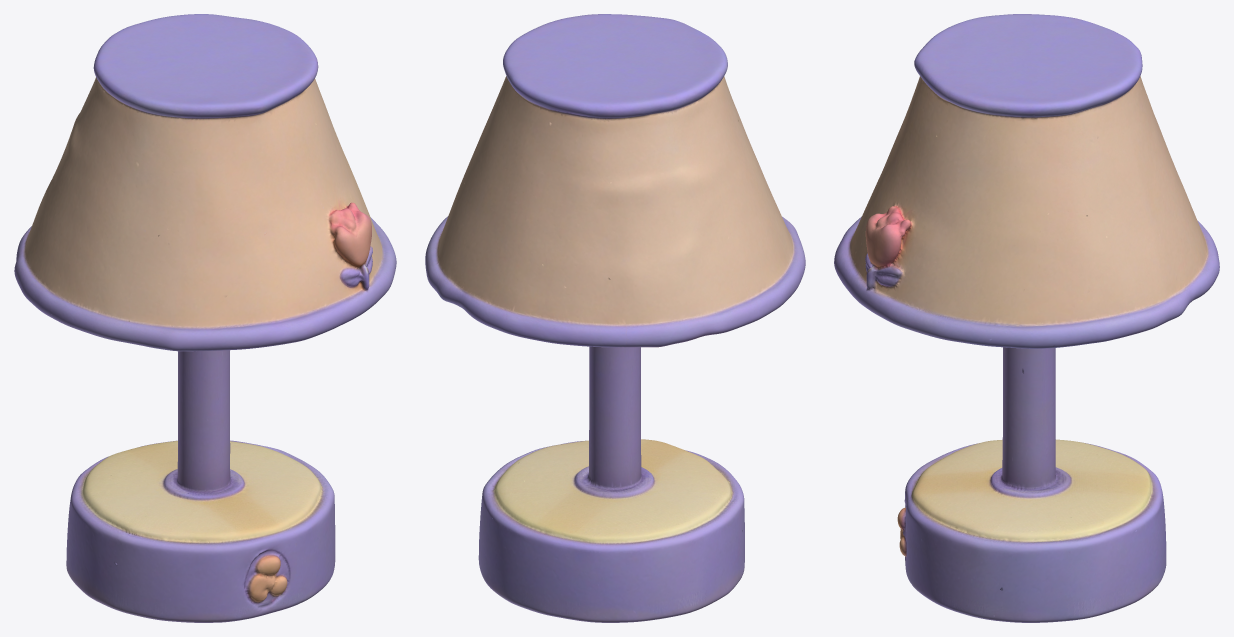
File: tea-table-lamp.glb
The picture shows the model from 3 angles, left to right: view 1: azimuth 30°, elevation 25°; view 2: azimuth 150°, elevation 25°; view 3: azimuth 270°, elevation 25°; orthographic projection.
Bounding box in the file's own units: 1.36 × 2 × 1.37.
1 material, 1 textured.
